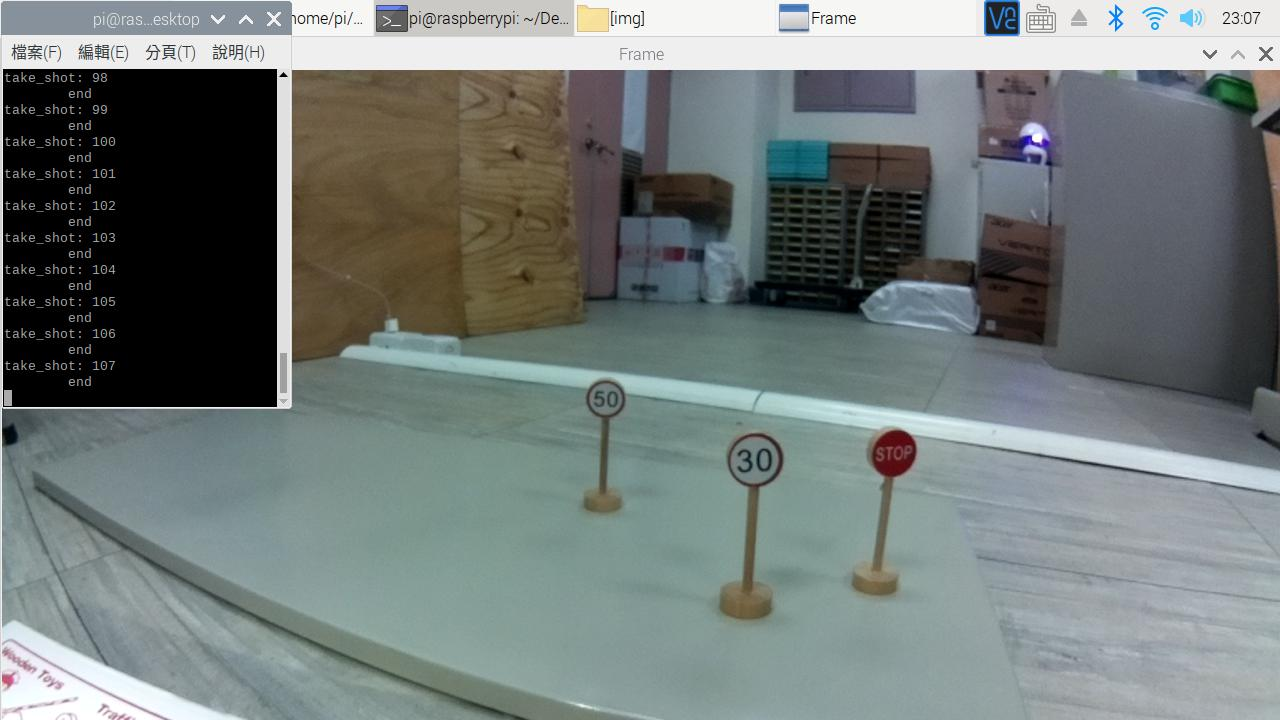Speed30: (721, 429, 789, 492)
Speed50: (576, 375, 640, 426)
Stop: (864, 418, 922, 483)
